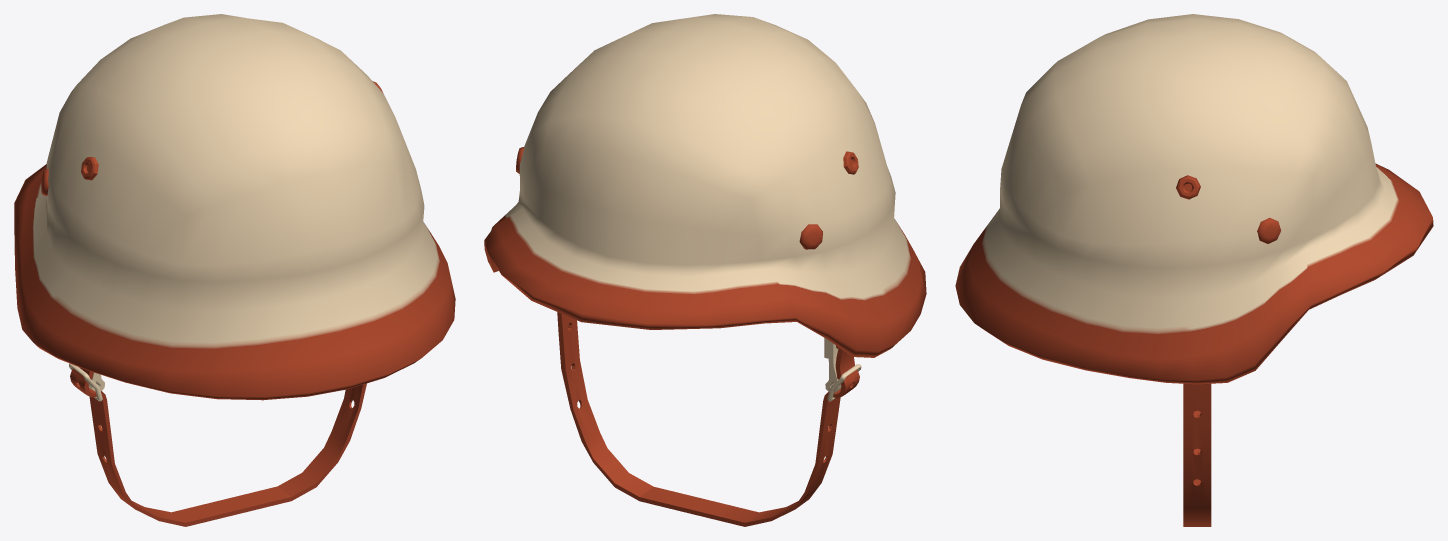
The model's file is helm updated.fbx.
3 views of the same model, side by side, from view 1: azimuth 30°, elevation 25°; view 2: azimuth 150°, elevation 25°; view 3: azimuth 270°, elevation 25° (orthographic). The views are drawn at different scales.
Visible parts, largest first — view 1: polySurface2, group4_pCylinder3, polySurface10; view 2: polySurface2, group4_pCylinder3, polySurface10; view 3: polySurface2, group4_pCylinder3, polySurface12.
Boxes of the visible parts, box(x1,y1,x2,y2) form: polySurface2: box(14, 14, 455, 400); group4_pCylinder3: box(70, 367, 366, 526); polySurface10: box(41, 157, 98, 195); polySurface2: box(484, 14, 926, 357); group4_pCylinder3: box(557, 312, 859, 526); polySurface10: box(799, 151, 858, 249); polySurface2: box(955, 14, 1433, 384); group4_pCylinder3: box(1183, 383, 1211, 526); polySurface12: box(1176, 175, 1280, 243).
Bounding box in the file's own units: 0.437 × 0.5023 × 0.4721.
